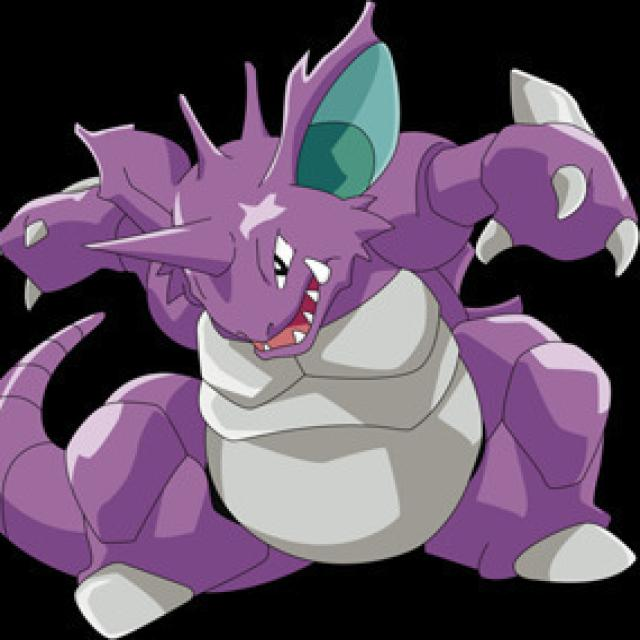Nidoking: (4, 19, 636, 621)
